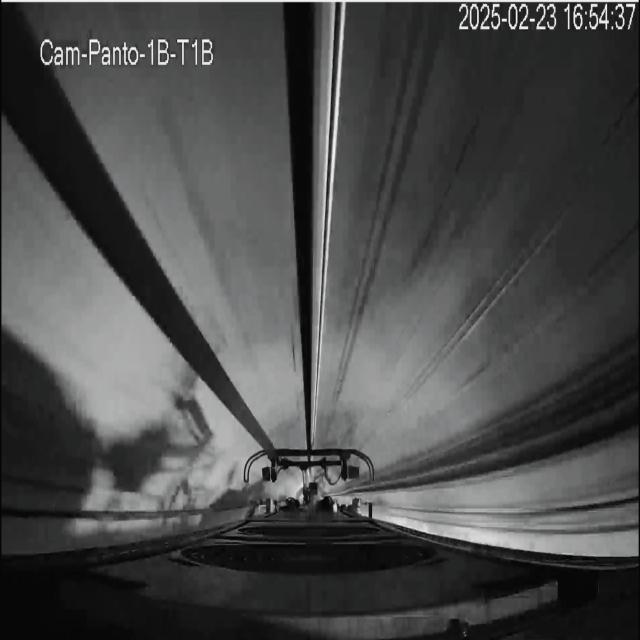Camera Stamp: (38, 30, 220, 69)
Date Stamp: (459, 3, 635, 33)
No - Spark: (243, 447, 375, 517)
